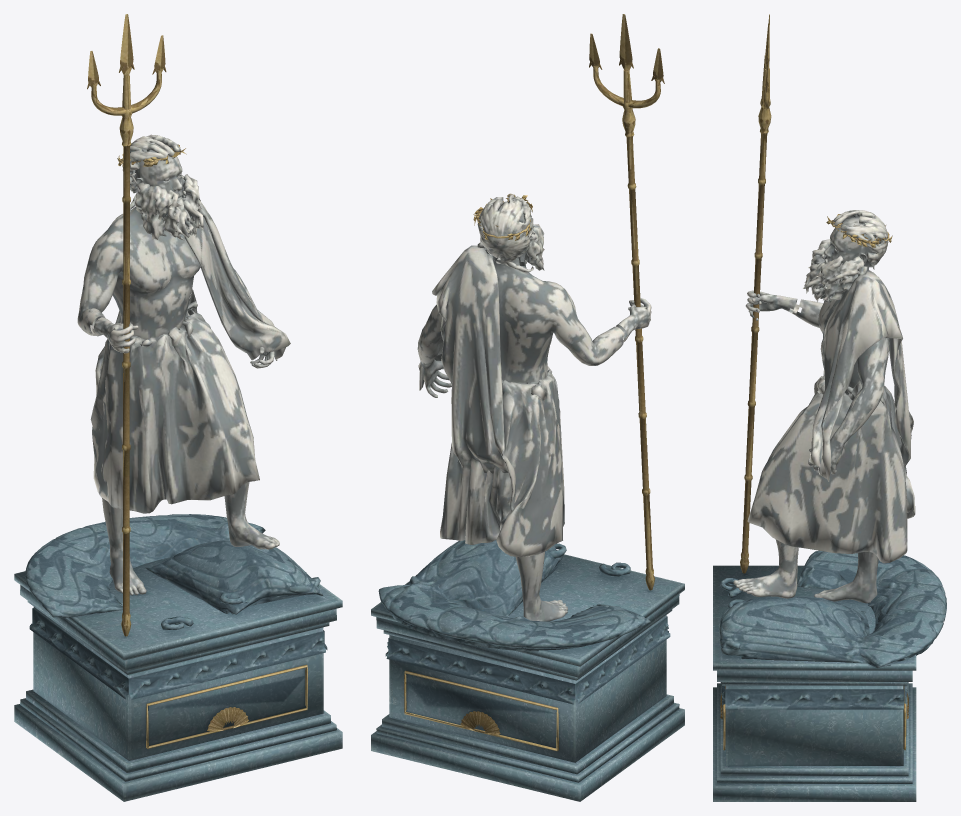
The model's file is guardian-tides.glb.
3 views of the same model, side by side, from view 1: azimuth 30°, elevation 25°; view 2: azimuth 150°, elevation 25°; view 3: azimuth 270°, elevation 25° (orthographic). The views are drawn at different scales.
Visible parts, largest first — view 1: TIDES__PEDESTAL, TIDES__CLOTH, TIDES__WAVES, TIDES__BODY, TIDES__TRIDENT, TIDES__HAIR_BEARD, TIDES__DETAILS, TIDES__FACE, TIDES__HAND_GRIP; view 2: TIDES__PEDESTAL, TIDES__CLOTH, TIDES__WAVES, TIDES__BODY, TIDES__TRIDENT, TIDES__HAIR_BEARD, TIDES__DETAILS, TIDES__HAND_GRIP; view 3: TIDES__PEDESTAL, TIDES__CLOTH, TIDES__WAVES, TIDES__BODY, TIDES__TRIDENT, TIDES__HAIR_BEARD, TIDES__FACE, TIDES__HAND_GRIP, TIDES__DETAILS.
Part boxes in pixels (left/top/right/bottom): TIDES__PEDESTAL: left=14, top=557, right=342, bottom=801; TIDES__CLOTH: left=90, top=202, right=290, bottom=513; TIDES__WAVES: left=25, top=514, right=323, bottom=630; TIDES__BODY: left=77, top=170, right=279, bottom=595; TIDES__TRIDENT: left=87, top=14, right=166, bottom=636; TIDES__HAIR_BEARD: left=122, top=134, right=203, bottom=240; TIDES__DETAILS: left=117, top=144, right=307, bottom=748; TIDES__FACE: left=135, top=144, right=182, bottom=200; TIDES__HAND_GRIP: left=92, top=317, right=138, bottom=353; TIDES__PEDESTAL: left=371, top=554, right=684, bottom=801; TIDES__CLOTH: left=418, top=245, right=564, bottom=557; TIDES__WAVES: left=378, top=540, right=651, bottom=651; TIDES__BODY: left=417, top=257, right=624, bottom=621; TIDES__TRIDENT: left=589, top=14, right=664, bottom=590; TIDES__HAIR_BEARD: left=477, top=194, right=544, bottom=272; TIDES__DETAILS: left=404, top=193, right=558, bottom=751; TIDES__HAND_GRIP: left=616, top=298, right=651, bottom=341; TIDES__PEDESTAL: left=713, top=565, right=916, bottom=801; TIDES__CLOTH: left=747, top=271, right=915, bottom=563; TIDES__WAVES: left=719, top=550, right=946, bottom=667; TIDES__BODY: left=733, top=240, right=890, bottom=603; TIDES__TRIDENT: left=740, top=14, right=771, bottom=573; TIDES__HAIR_BEARD: left=803, top=210, right=888, bottom=302; TIDES__FACE: left=823, top=217, right=871, bottom=266; TIDES__HAND_GRIP: left=745, top=290, right=799, bottom=320; TIDES__DETAILS: left=720, top=214, right=908, bottom=750.
Bounding box in the file's own units: 3.41 × 9.9 × 2.98.
3 materials, 3 textured.
